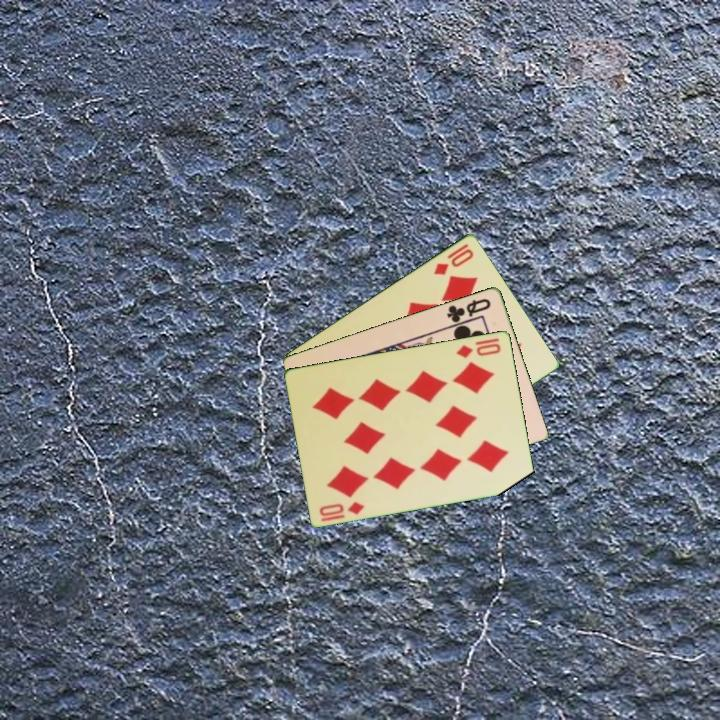10d: (430, 240, 477, 278), (316, 497, 368, 519), (453, 339, 504, 361)
Qc: (443, 294, 494, 328)
